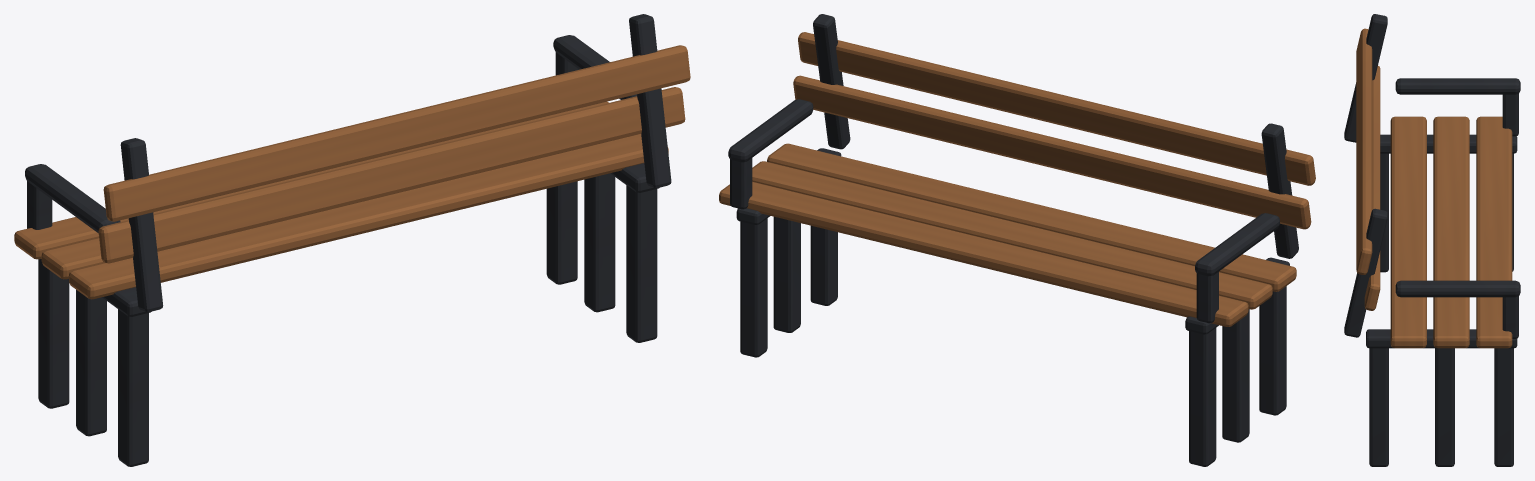
The model's file is SW_Bench.glb.
3 renders of one model, left to right at view 1: azimuth 30°, elevation 25°; view 2: azimuth 150°, elevation 25°; view 3: azimuth 270°, elevation 25°, orthographic. The views are drawn at different scales.
Visible parts, largest first — view 1: Bench; view 2: Bench; view 3: Bench.
Part boxes in pixels (<box>): Bench: <box>14,14,690,466</box>; Bench: <box>719,14,1315,466</box>; Bench: <box>1344,14,1520,466</box>.
Bounding box in the file's own units: 1.6 × 0.8485 × 0.536.
1 material, 1 textured.
